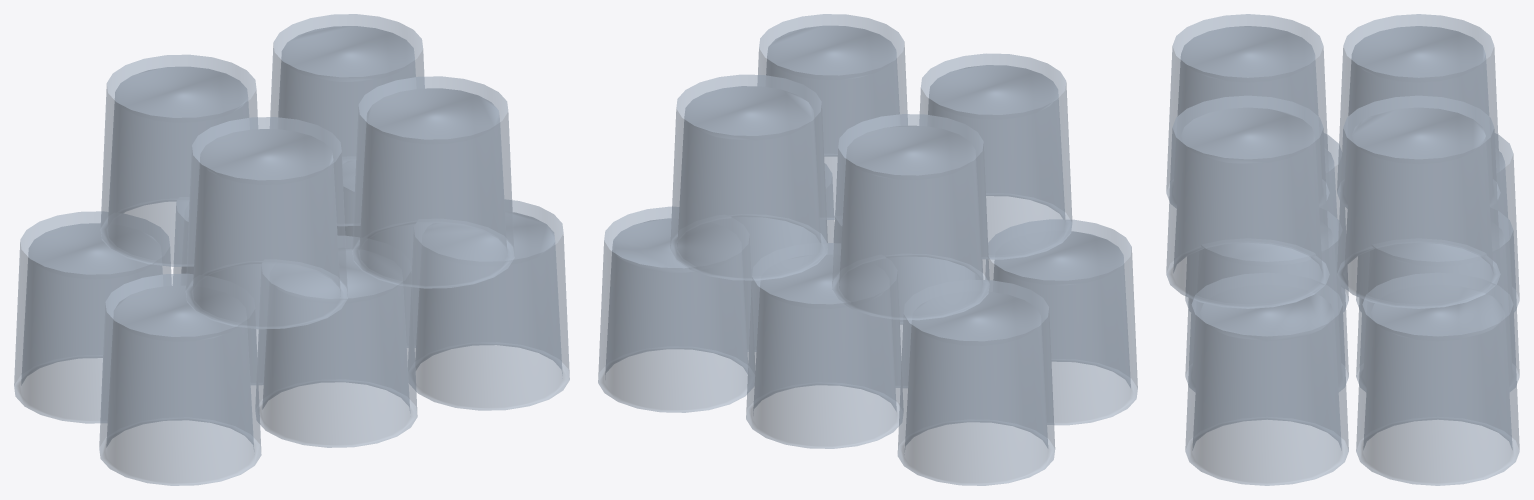
File: lowball_3x2x2.gltf
3 renders of one model, left to right at view 1: azimuth 30°, elevation 25°; view 2: azimuth 150°, elevation 25°; view 3: azimuth 270°, elevation 25°, orthographic. The views are drawn at different scales.
Parts seen in each view (by area): view 1: defaultMaterial.308; view 2: defaultMaterial.308; view 3: defaultMaterial.308.
Boxes of the visible parts, box(x1,y1,x2,y2) form: defaultMaterial.308: box(14, 14, 569, 485); defaultMaterial.308: box(598, 14, 1137, 485); defaultMaterial.308: box(1166, 14, 1519, 485).
Bounding box in the file's own units: 0.3239 × 0.2004 × 0.2199.
1 material, 1 textured.
